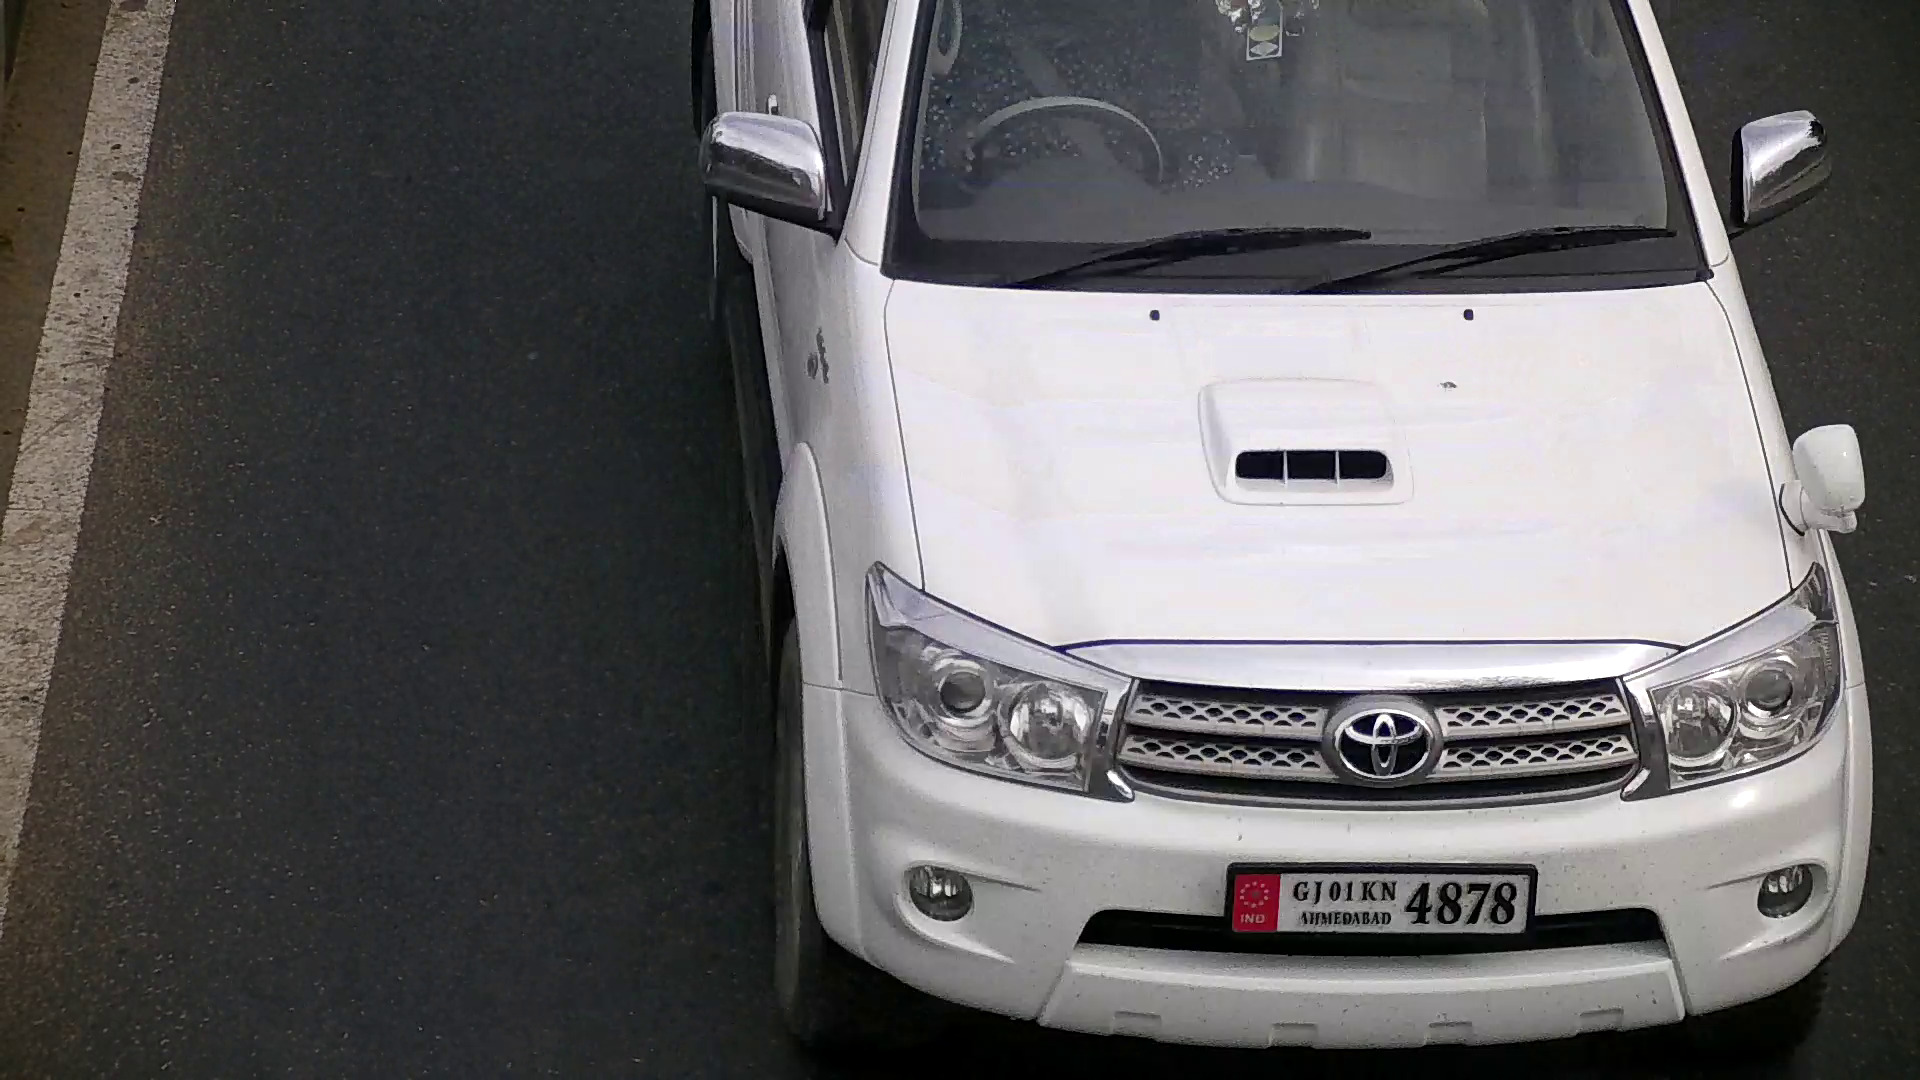numberplate: (1219, 859, 1538, 934)
